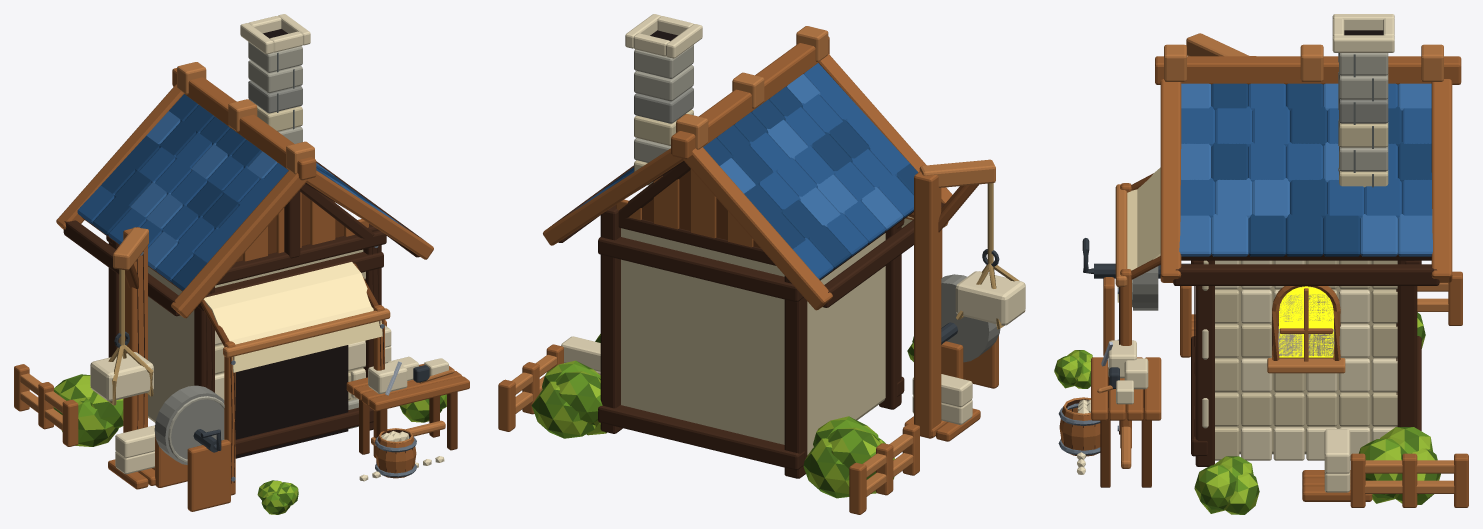
The model's file is stone_cutter.glb.
3 views of the same model, side by side, from view 1: azimuth 30°, elevation 25°; view 2: azimuth 150°, elevation 25°; view 3: azimuth 270°, elevation 25° (orthographic). The views are drawn at different scales.
Visible parts, largest first — view 1: Linen work canopy, Workshop shadow opening, Cottage walls, Carved roof verge, Circular grindstone, Ridge timber, Hoist upright, Grindstone trestle, Gable tie beam, Carved roof verge.002, Wall cross beam, Carved roof verge.001 (+66 smaller); view 2: Cottage walls, Hoist upright, Carved roof verge.001, Wall cross beam.001, Wall cross beam.003, Corner upright.003, Corner upright.001, Ridge timber, Dressed limestone.004, Carved roof verge.003, Corner upright, Roof eave (+60 smaller); view 3: Roof eave.001, Ridge timber, Carved roof verge.003, Carved roof verge.002, Corner upright.002, Corner upright.003, Warm arched window, Linen work canopy, Cottage walls, Soft edged blue roof tile.066, Soft edged blue roof tile.067, Soft edged blue roof tile.069 (+100 smaller).
Boxes of the visible parts, <box> form: Linen work canopy: <box>203,262,382,372</box>; Workshop shadow opening: <box>235,345,348,458</box>; Cottage walls: <box>148,249,363,422</box>; Carved roof verge: <box>171,170,306,318</box>; Circular grindstone: <box>154,385,224,464</box>; Ridge timber: <box>172,68,316,180</box>; Hoist upright: <box>123,227,147,432</box>; Grindstone trestle: <box>187,439,230,511</box>; Gable tie beam: <box>216,230,386,285</box>; Carved roof verge.002: <box>306,170,433,259</box>; Wall cross beam: <box>235,407,373,455</box>; Carved roof verge.001: <box>56,84,183,229</box>; Cottage walls: <box>621,228,885,455</box>; Hoist upright: <box>914,171,941,438</box>; Carved roof verge.001: <box>683,147,832,310</box>; Wall cross beam.001: <box>598,405,804,470</box>; Wall cross beam.003: <box>598,237,803,302</box>; Corner upright.003: <box>600,205,622,433</box>; Corner upright.001: <box>784,276,807,478</box>; Ridge timber: <box>671,36,829,159</box>; Dressed limestone.004: <box>955,271,1025,325</box>; Carved roof verge.003: <box>543,148,683,245</box>; Corner upright: <box>879,225,901,409</box>; Roof eave: <box>823,203,944,307</box>; Roof eave.001: <box>1173,264,1439,285</box>; Ridge timber: <box>1155,56,1461,84</box>; Carved roof verge.003: <box>1431,79,1452,282</box>; Carved roof verge.002: <box>1160,79,1181,282</box>; Corner upright.002: <box>1195,260,1214,466</box>; Corner upright.003: <box>1397,260,1417,428</box>; Warm arched window: <box>1279,286,1333,357</box>; Linen work canopy: <box>1117,167,1160,302</box>; Cottage walls: <box>1215,260,1397,454</box>; Soft edged blue roof tile.066: <box>1248,214,1285,256</box>; Soft edged blue roof tile.067: <box>1286,214,1323,256</box>; Soft edged blue roof tile.069: <box>1360,214,1397,256</box>.
Bounding box in the file's own units: 4.32 × 4.24 × 3.61.
